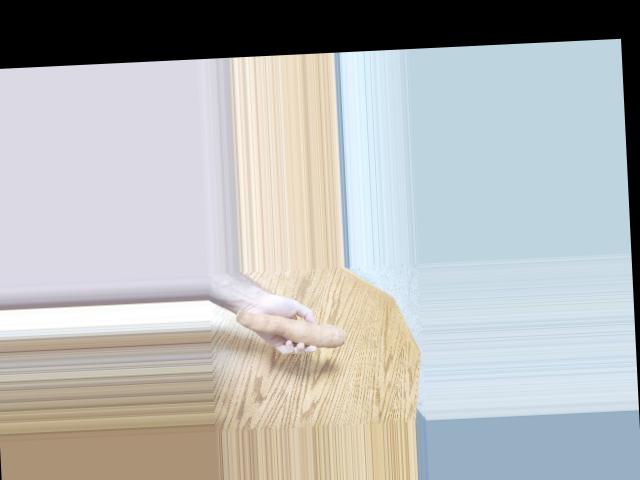sweet_potato: (240, 309, 350, 354)
